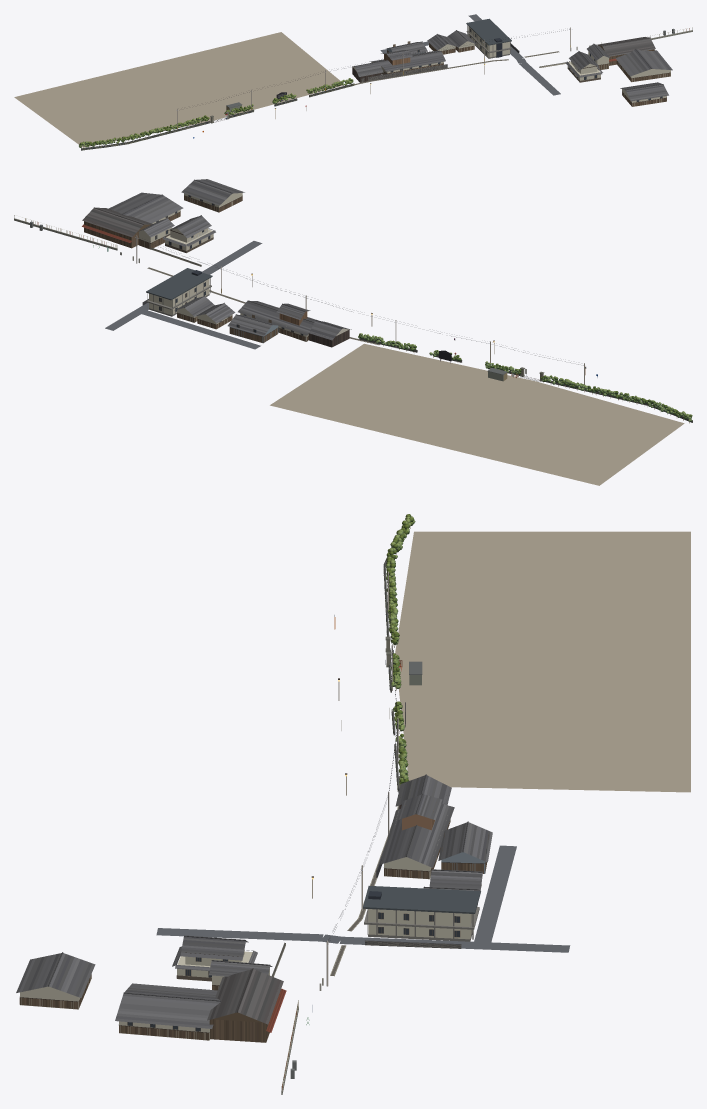
The model's file is ART_InnerMoatStreet.glb.
3 renders of one model, top to bottom at view 1: azimuth 30°, elevation 25°; view 2: azimuth 150°, elevation 25°; view 3: azimuth 270°, elevation 25°, orthographic. The views are drawn at different scales.
Parts seen in each view (by area): view 1: ART_InnerMoatStreet; view 2: ART_InnerMoatStreet; view 3: ART_InnerMoatStreet.
Part boxes in pixels (box(x1,y1,x2,y2)): ART_InnerMoatStreet: box(14, 14, 692, 150); ART_InnerMoatStreet: box(14, 179, 692, 485); ART_InnerMoatStreet: box(16, 514, 690, 1094).
Bounding box in the file's own units: 278 × 10.49 × 140.
